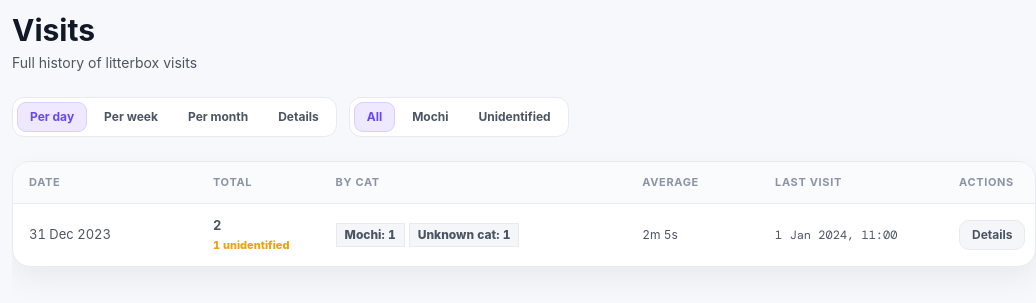
Test: Visits page › switches summary buckets and shows weekly averages as plain per-day numbers
Step 1. Click the button "Per week" → point(131, 117), box [91, 102, 171, 132]
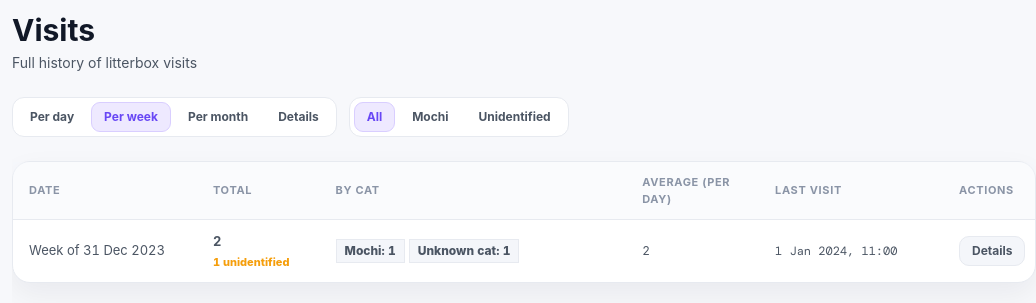
Expected: the text "2" is shown, [213, 233, 221, 249]
Expected: the column heading "Average (per day)" is shown, [626, 162, 759, 220]
